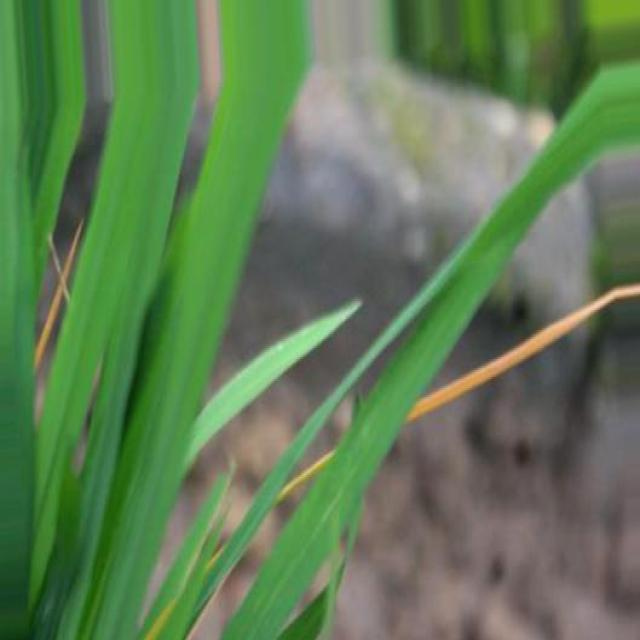Rice Tungro: (406, 284, 640, 421), (35, 219, 83, 370), (274, 451, 335, 505)
